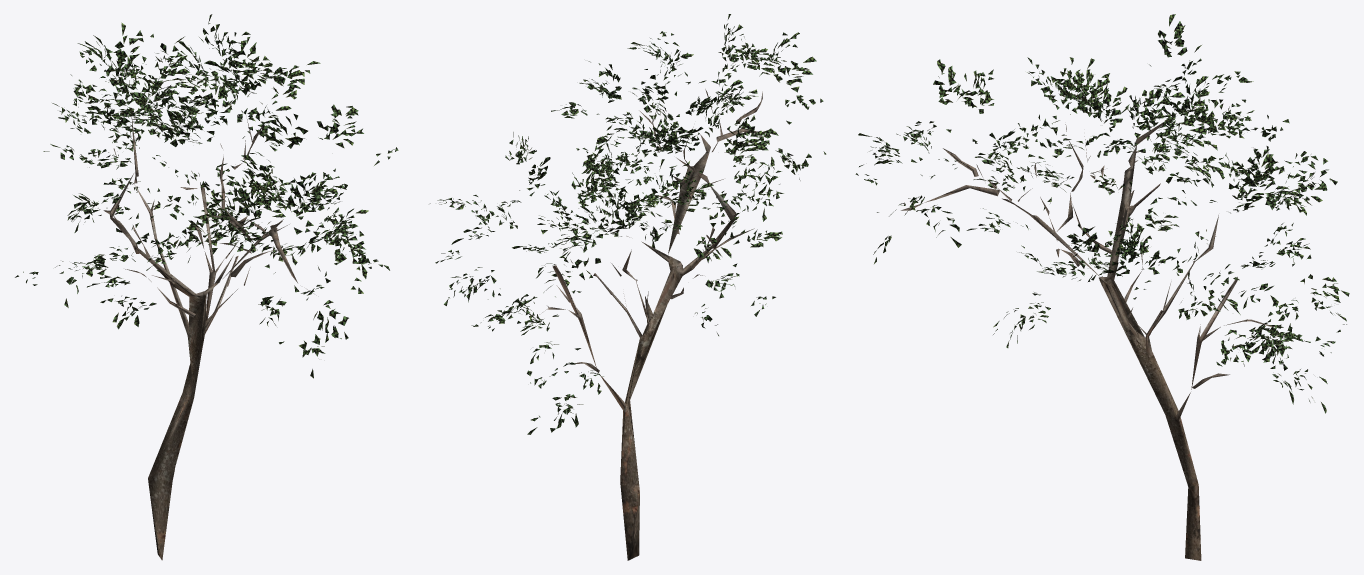
File: tree-lod.glb
3 views of the same model, side by side, from view 1: azimuth 30°, elevation 25°; view 2: azimuth 150°, elevation 25°; view 3: azimuth 270°, elevation 25° (orthographic). The views are drawn at different scales.
Parts seen in each view (by area): view 1: tree_small_02_LOD0; view 2: tree_small_02_LOD0; view 3: tree_small_02_LOD0.
Boxes of the visible parts, x1=… form: tree_small_02_LOD0: x1=15, y1=14, x2=398, y2=560; tree_small_02_LOD0: x1=430, y1=14, x2=826, y2=560; tree_small_02_LOD0: x1=855, y1=14, x2=1349, y2=560.
Size of the model in its own units: 2.8 by 4.55 by 4.04.
Materials: 3 (3 with a texture image).
